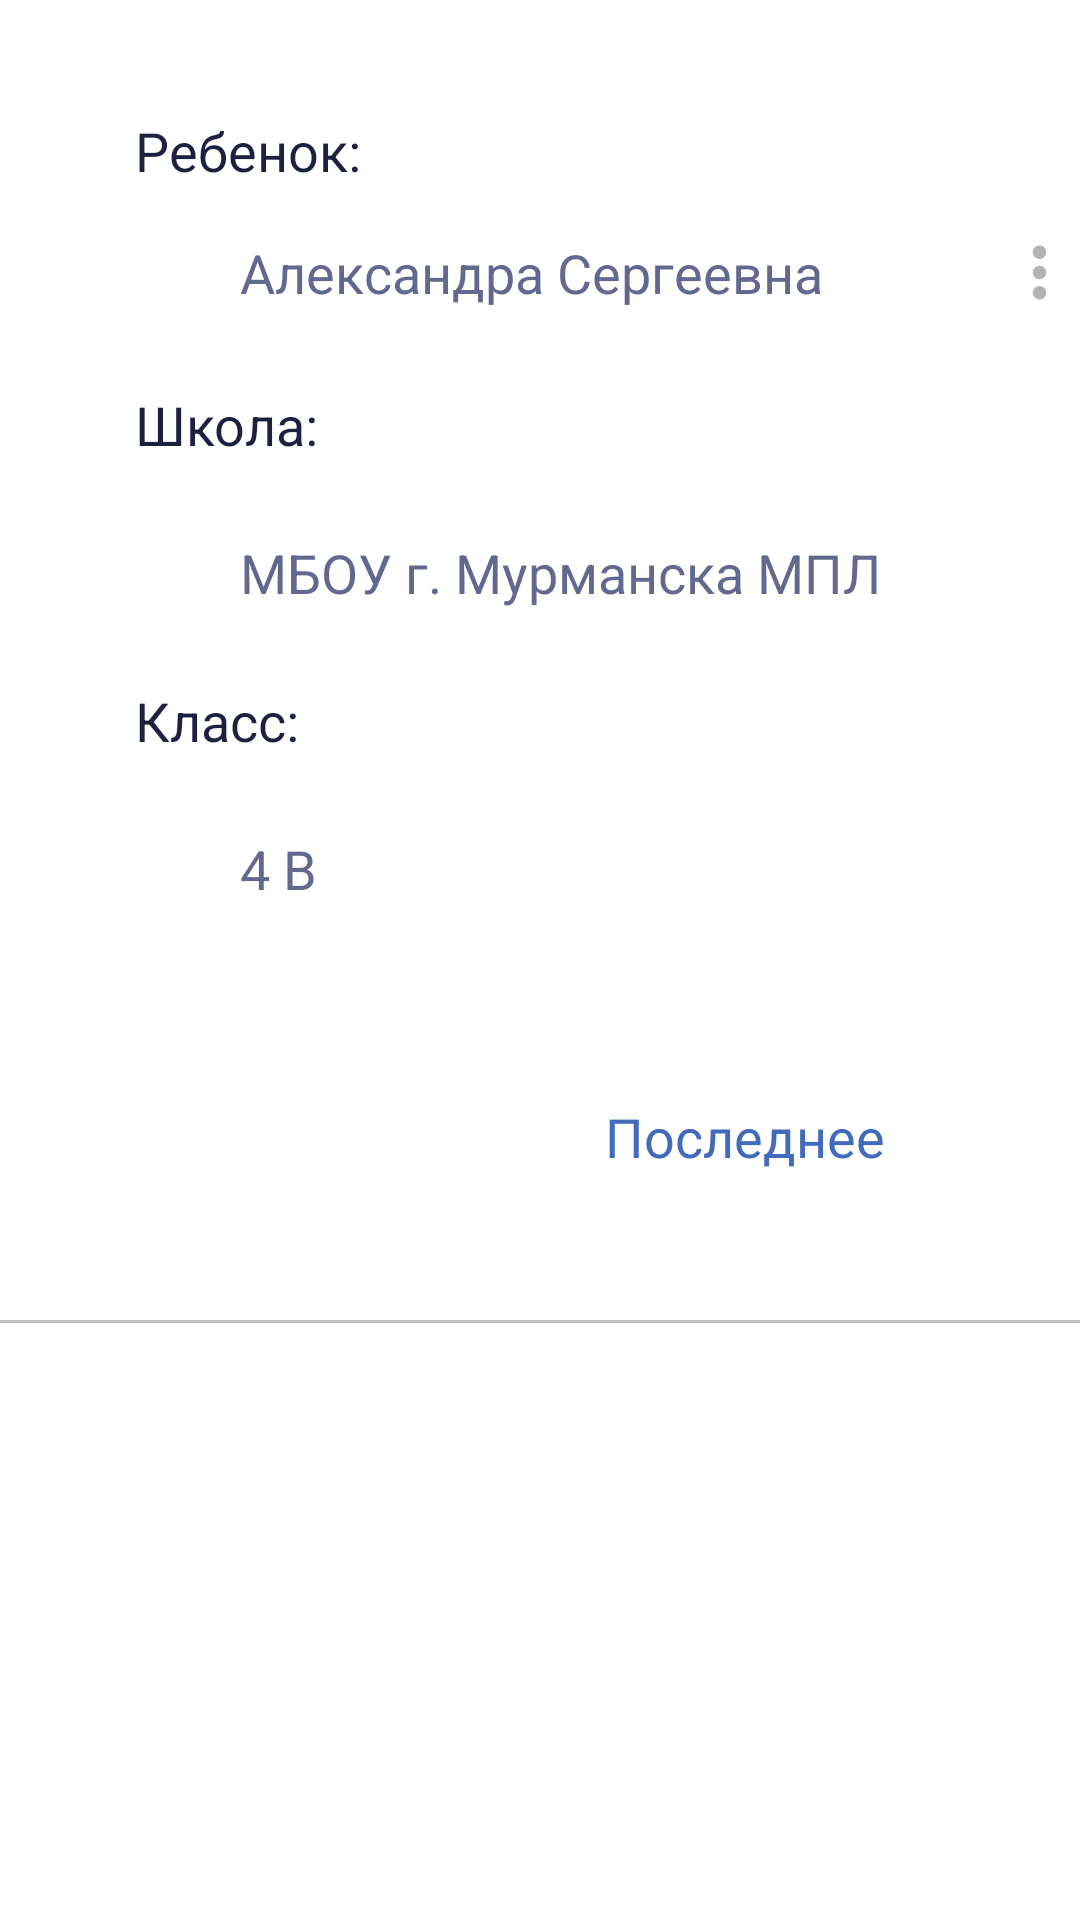

Screen size 1080x1920. Icon name, then its center in pixels as [x,y]:
more: [1039,272]
